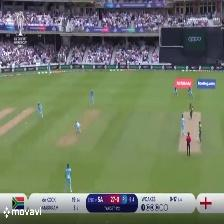ball: (2, 136, 9, 144)
batsman: (188, 102, 197, 121)
